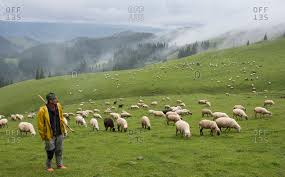sheep: (217, 115, 241, 134), (199, 119, 221, 138), (175, 119, 192, 140), (18, 121, 37, 138), (253, 106, 273, 119), (231, 107, 250, 120), (115, 117, 129, 132), (103, 116, 115, 132), (75, 114, 88, 128), (89, 118, 100, 132), (262, 98, 276, 108), (141, 116, 151, 129), (153, 110, 165, 120), (166, 114, 181, 122), (1, 118, 10, 130), (200, 109, 212, 117), (120, 111, 131, 119), (129, 104, 140, 111), (92, 112, 101, 119)
